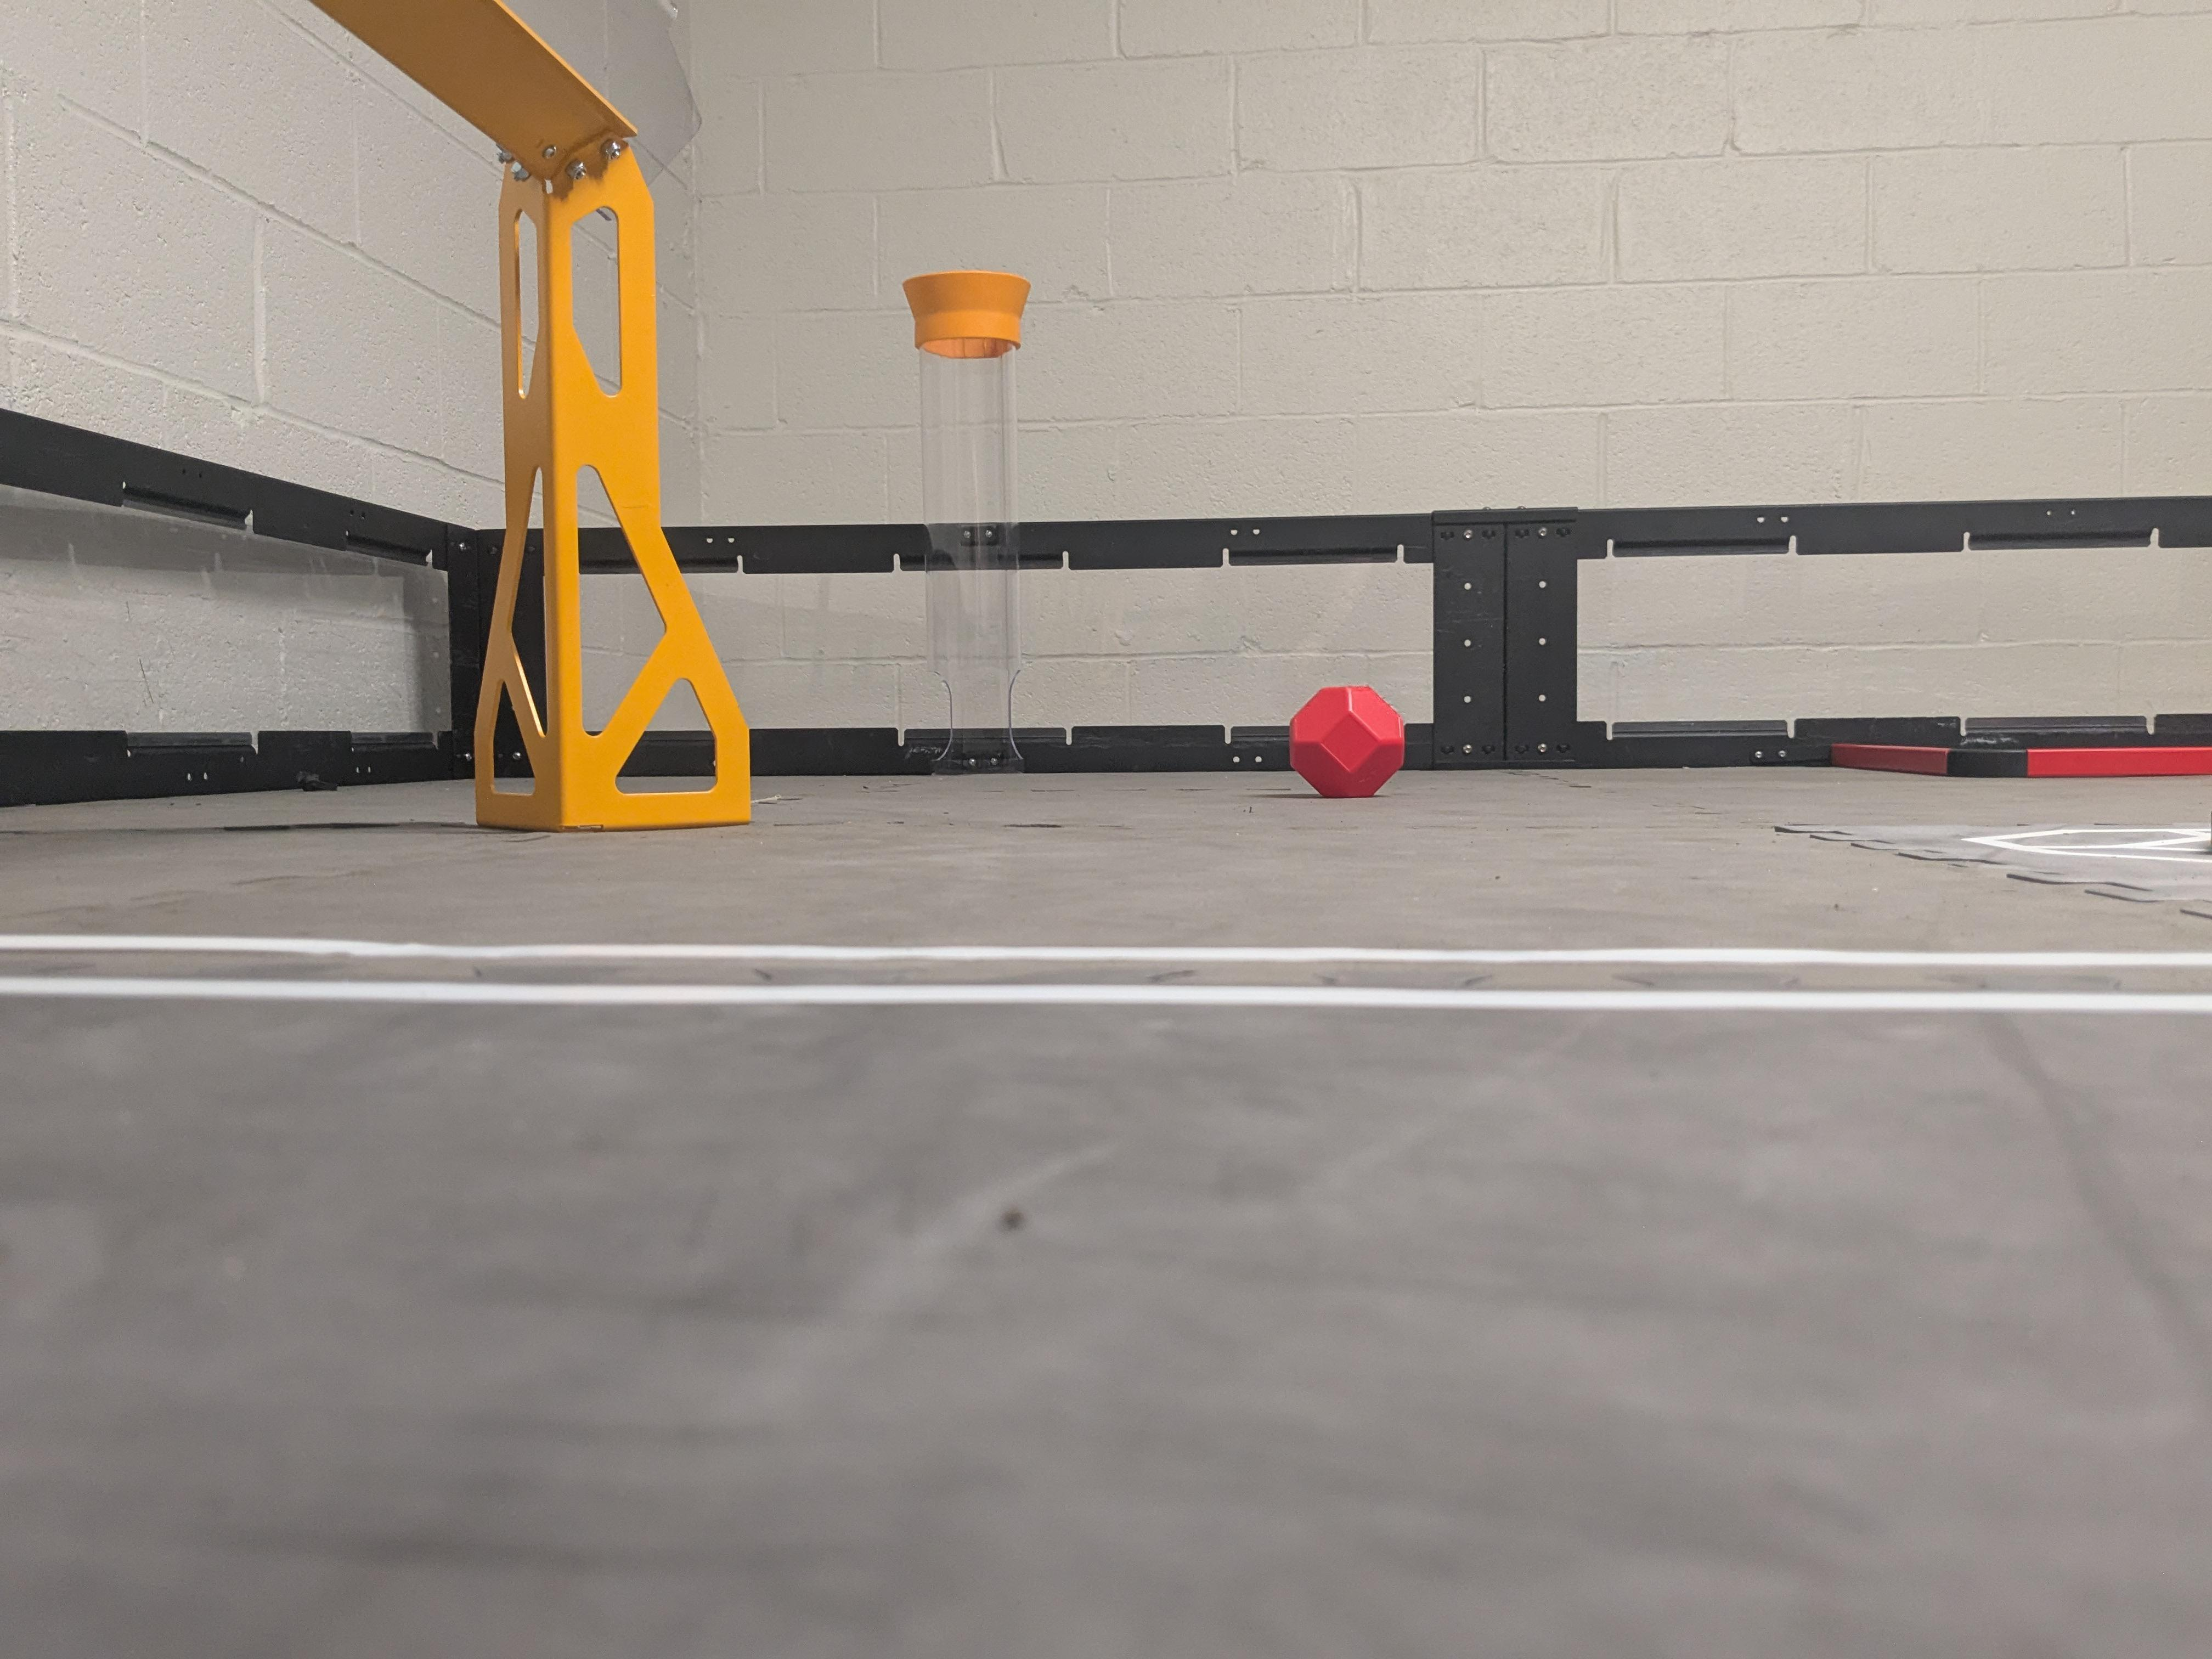Vex-Pieces-RED: (1289, 687, 1406, 795)
